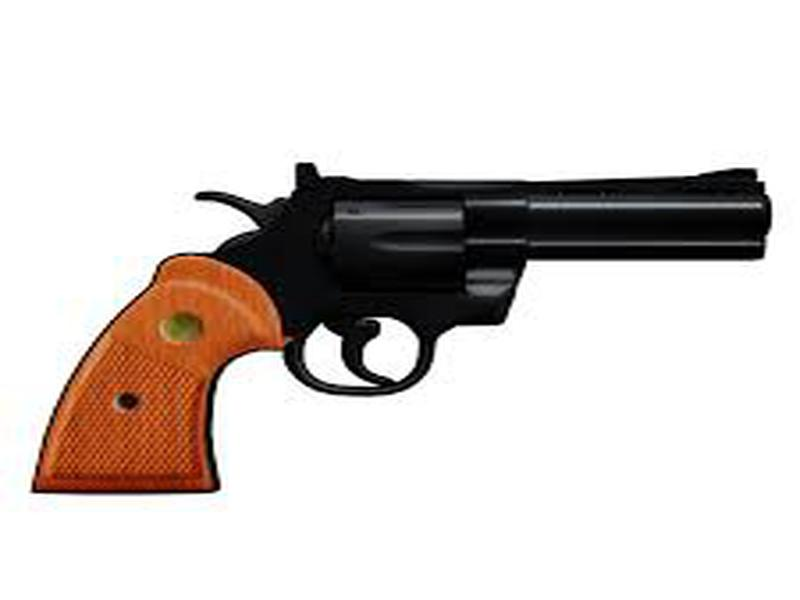gun: (25, 153, 777, 498)
